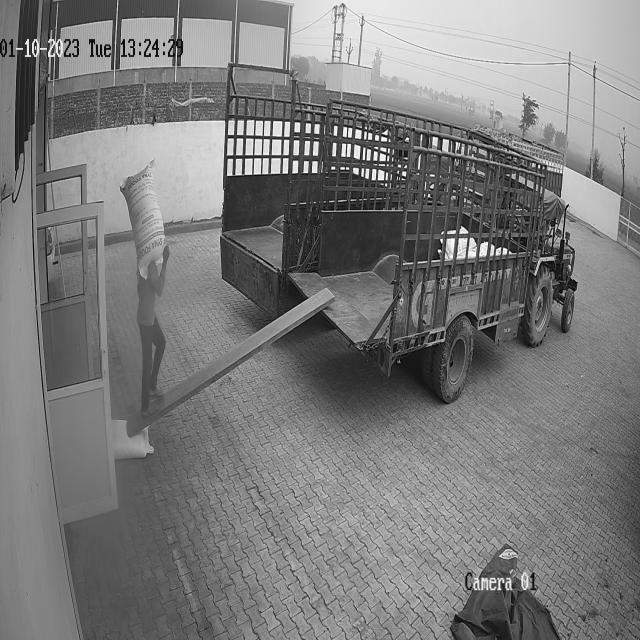sack: (120, 159, 165, 277), (111, 418, 153, 460)
